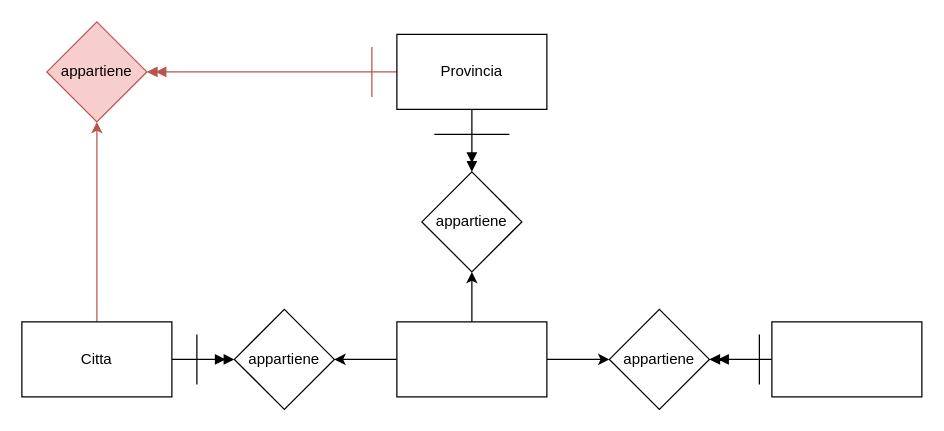
The diagram is 944 pixels wide and 431 high, and some of its shapes have lost their labels. The centre of each missing label's shape, as x and y in pixels:
Impiegato: (x=471, y=359)
Reparto: (x=846, y=359)
